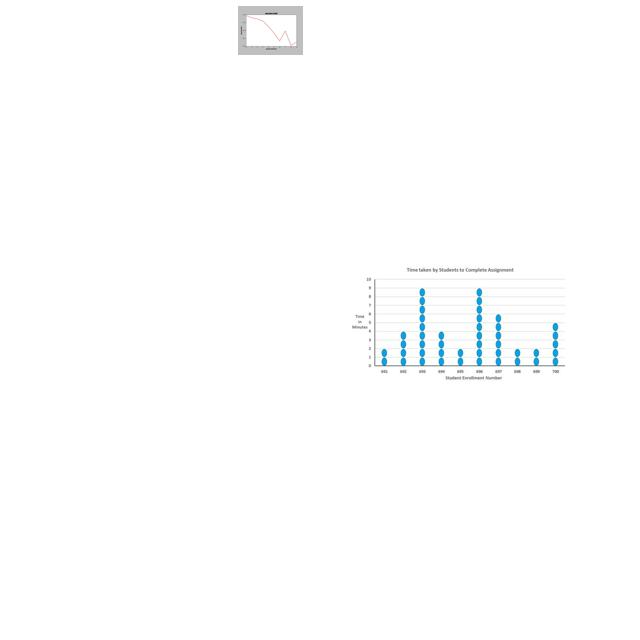Graph: (351, 266, 570, 382), (238, 6, 303, 55)
